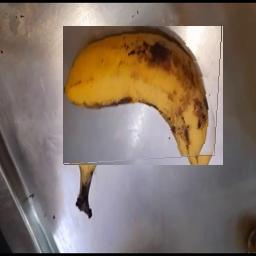Banana Semirotten: (64, 27, 224, 166)
